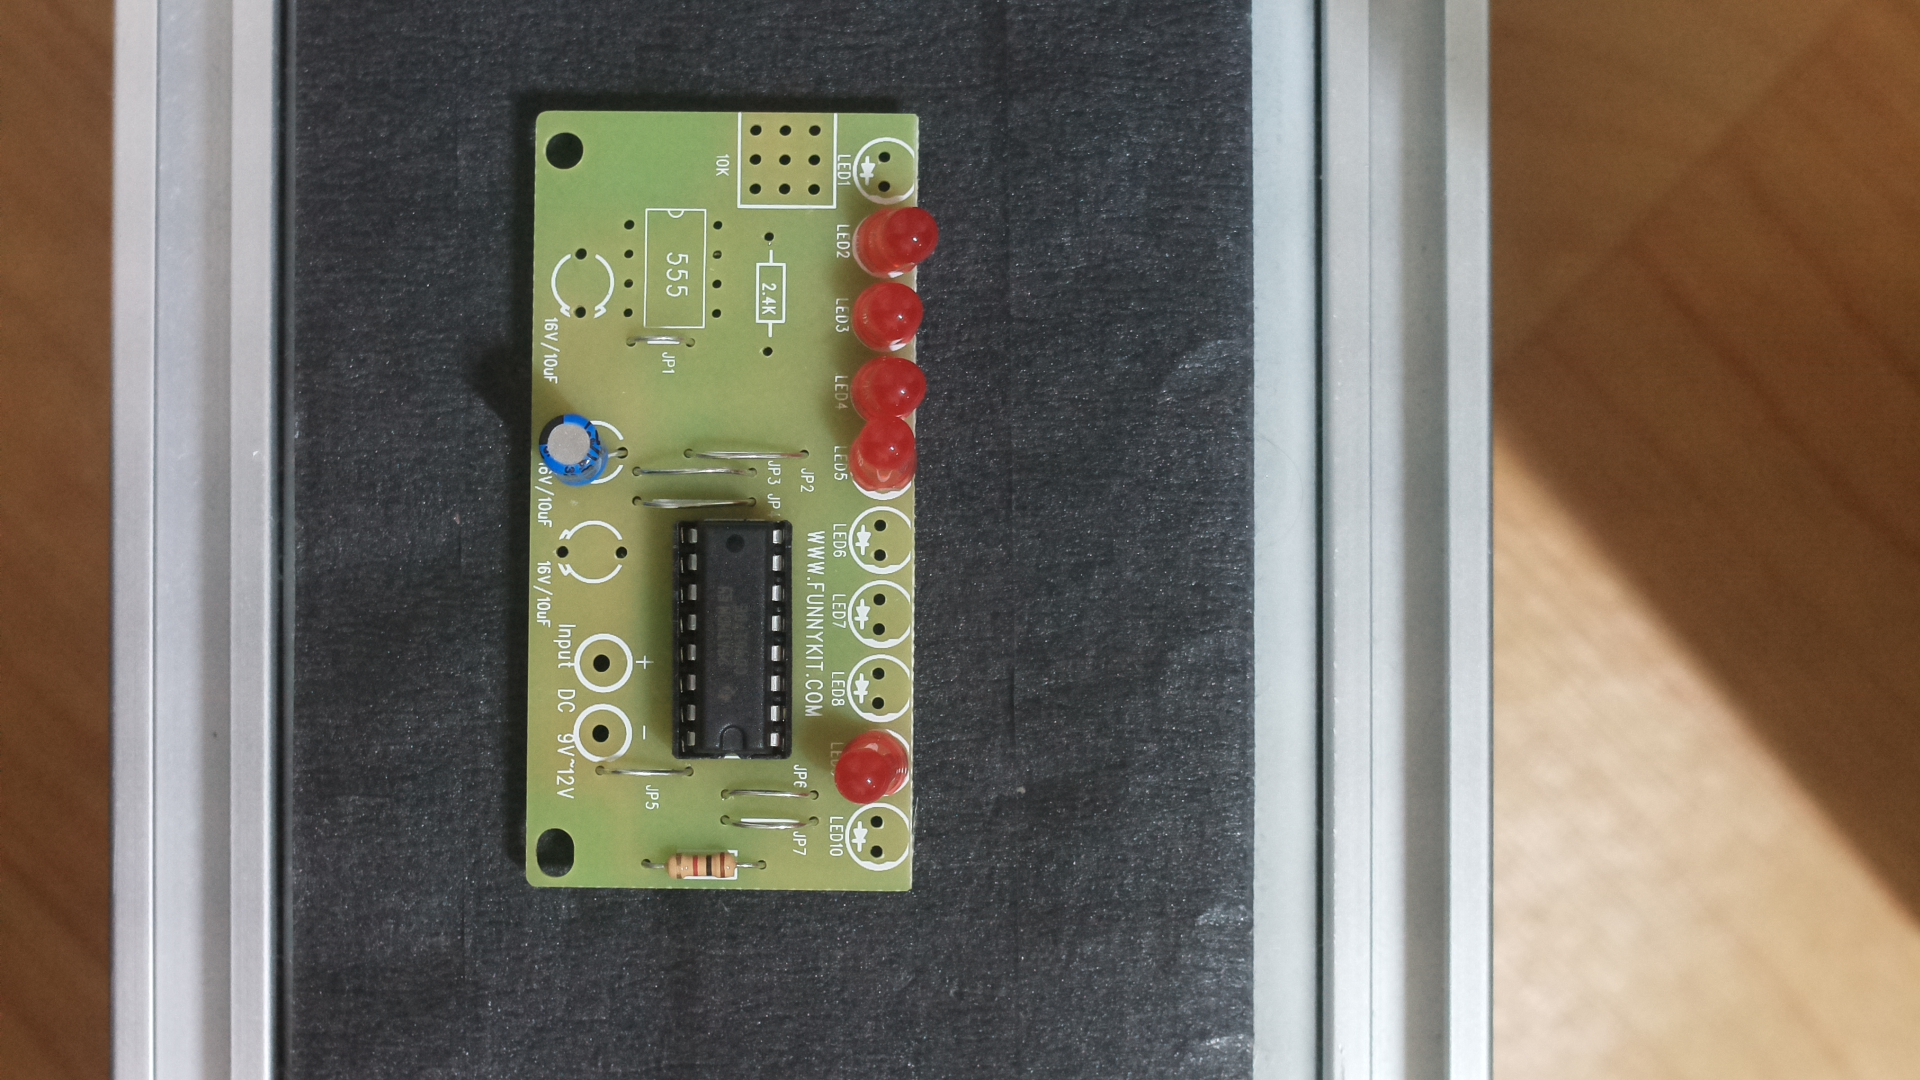B_Missing_part: (512, 80, 942, 901)
